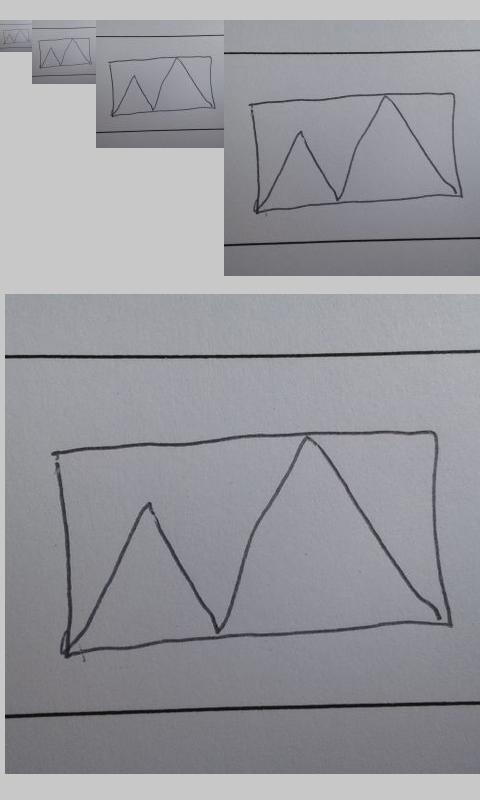image_view: (47, 426, 456, 658), (245, 91, 464, 216), (107, 55, 217, 117), (38, 37, 92, 69), (2, 28, 30, 45)
